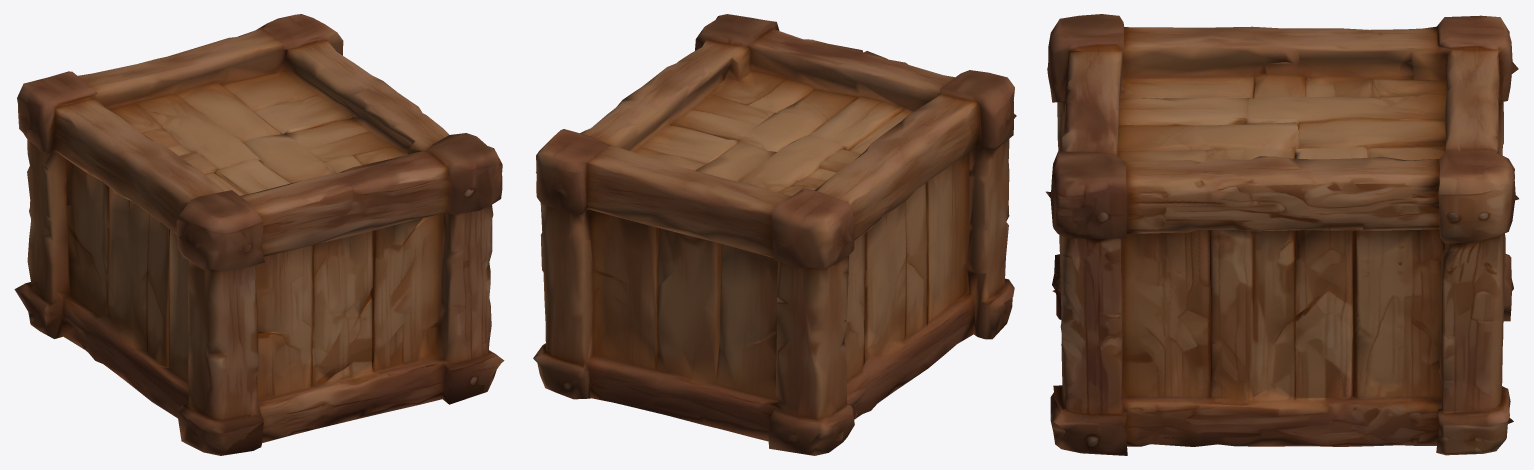
File: crate.glb
The picture shows the model from 3 angles, left to right: view 1: azimuth 30°, elevation 25°; view 2: azimuth 150°, elevation 25°; view 3: azimuth 270°, elevation 25°; orthographic projection. The views are drawn at different scales.
Parts seen in each view (by area): view 1: tripo_node_35db6af6-31b8-4c70-9644-aced7bc0b900; view 2: tripo_node_35db6af6-31b8-4c70-9644-aced7bc0b900; view 3: tripo_node_35db6af6-31b8-4c70-9644-aced7bc0b900.
Boxes of the visible parts, bbox=[...] form: tripo_node_35db6af6-31b8-4c70-9644-aced7bc0b900: bbox=[14, 14, 504, 455]; tripo_node_35db6af6-31b8-4c70-9644-aced7bc0b900: bbox=[533, 14, 1016, 455]; tripo_node_35db6af6-31b8-4c70-9644-aced7bc0b900: bbox=[1046, 14, 1518, 455].
Bounding box in the file's own units: 0.8693 × 0.6505 × 1.
1 material, 1 textured.
